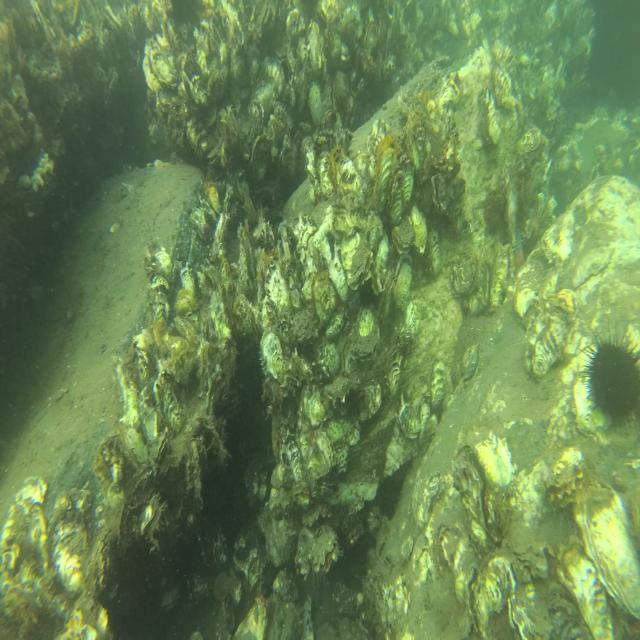echinus: (581, 321, 640, 438)
